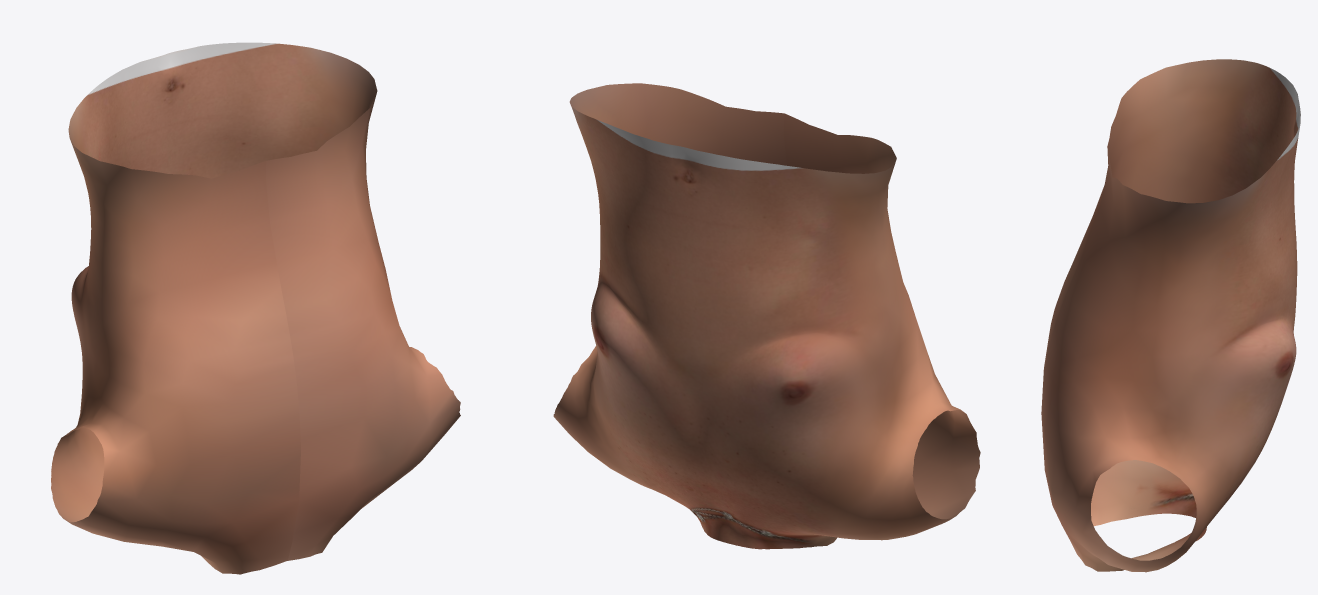
File: fitModel_Ctutc.obj
3 views of the same model, side by side, from view 1: azimuth 30°, elevation 25°; view 2: azimuth 150°, elevation 25°; view 3: azimuth 270°, elevation 25° (orthographic). The views are drawn at different scales.
Bounding box in the file's own units: 51.02 × 49.87 × 24.74.
1 material, 1 textured.
